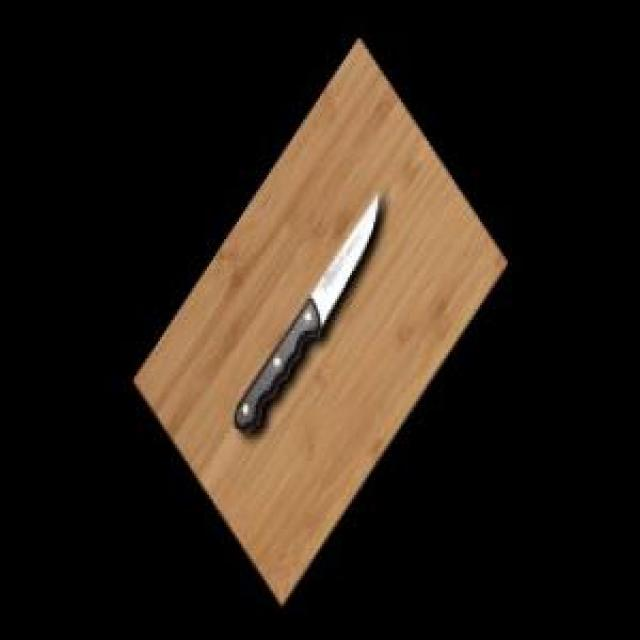knife: (231, 188, 386, 446)
